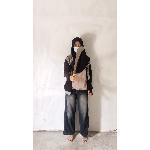Golok: (68, 41, 90, 83)
